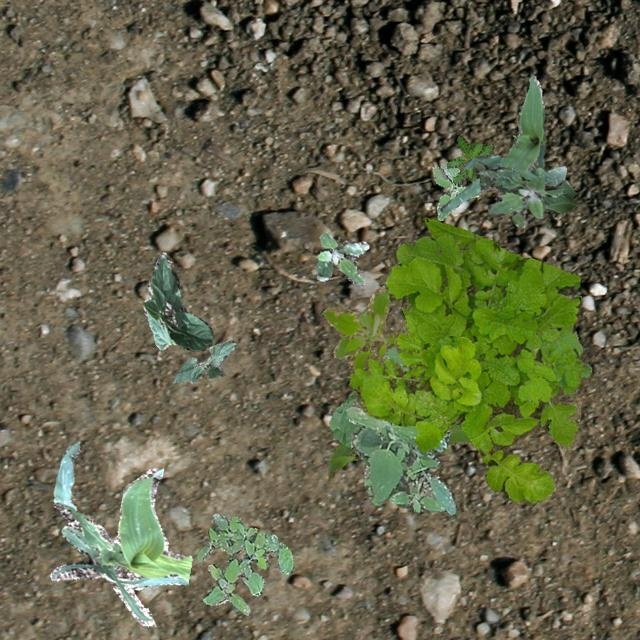crop: (50, 440, 192, 626), (440, 74, 576, 212), (328, 424, 472, 478), (142, 252, 212, 351), (172, 340, 236, 382)
weed: (348, 217, 590, 502), (344, 401, 456, 514), (195, 512, 294, 614), (328, 344, 408, 446), (322, 286, 398, 370), (474, 160, 566, 227), (316, 232, 368, 286), (432, 160, 478, 220), (446, 136, 494, 182)
